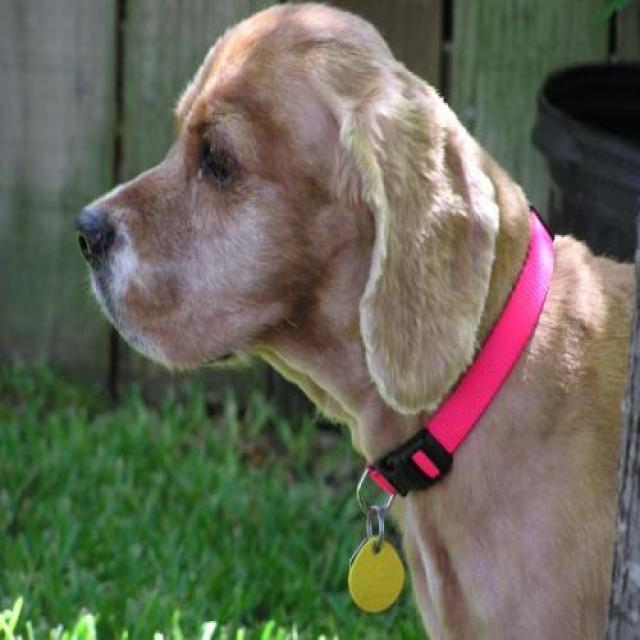dogs: (71, 1, 636, 640)
